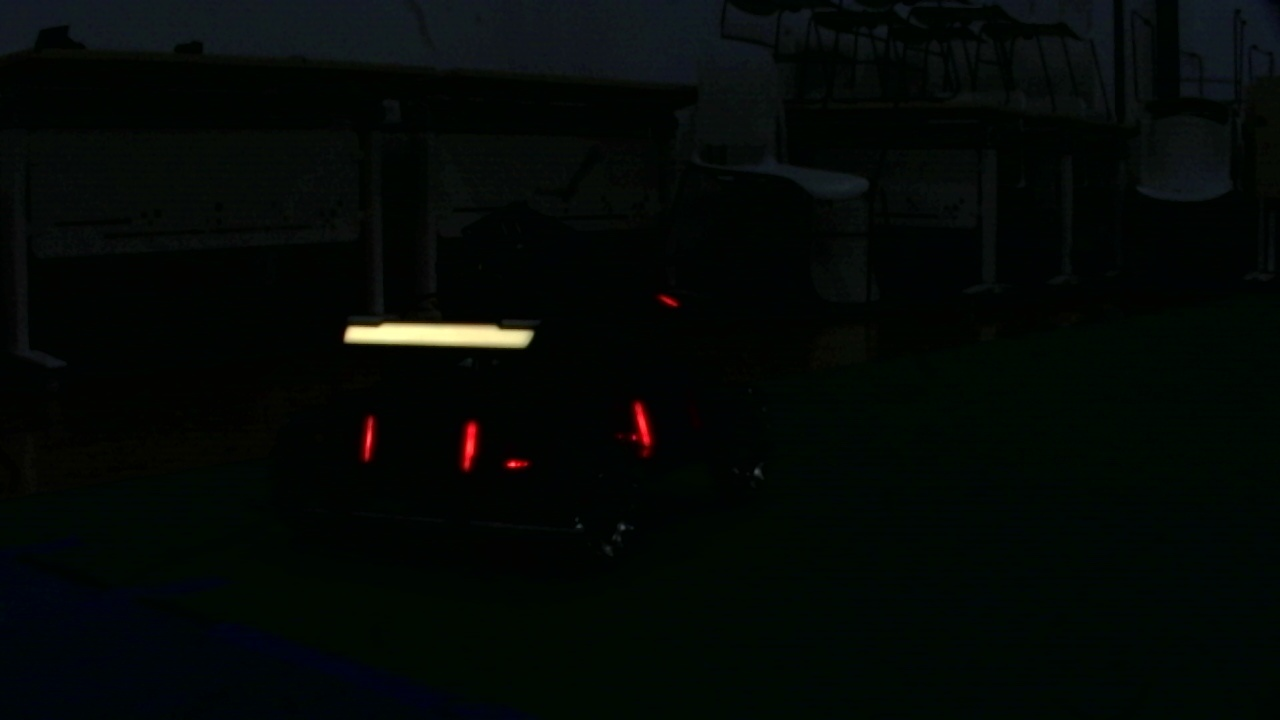lamp: (453, 412, 486, 473), (349, 403, 376, 475), (631, 398, 655, 457)
notpair1: (456, 398, 654, 480)
pair1: (356, 412, 484, 474)
